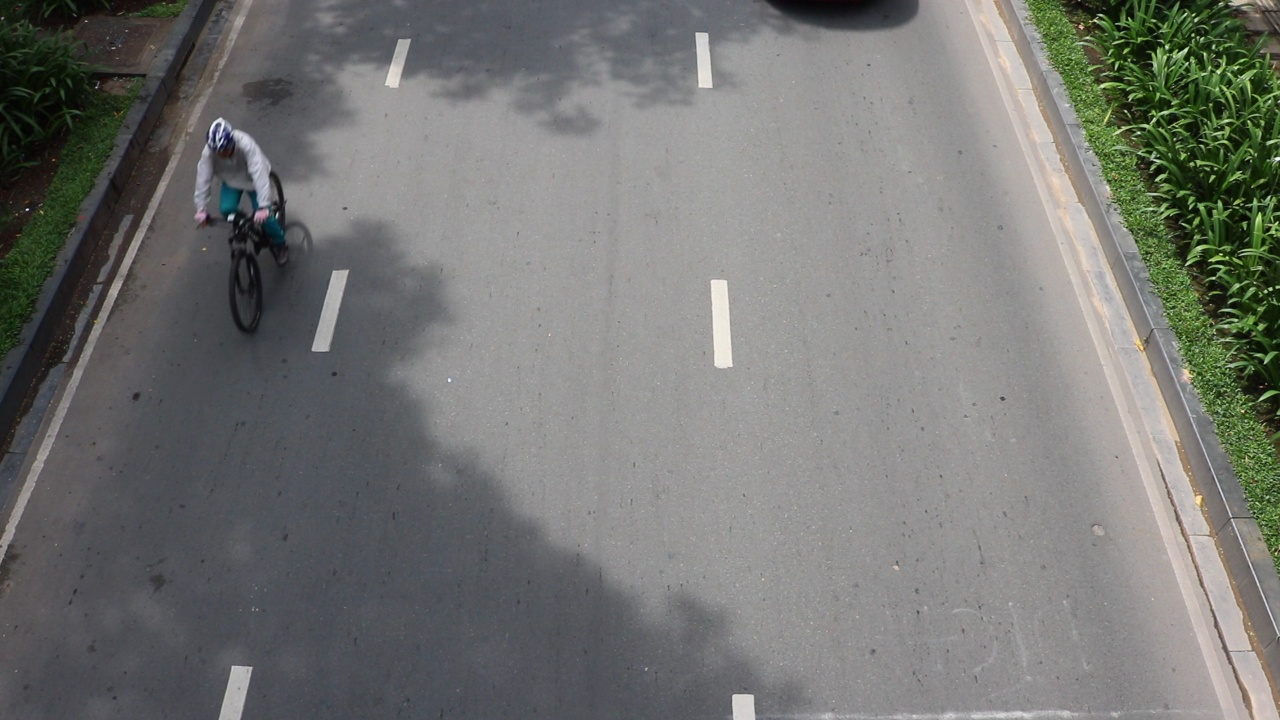bicycle: (214, 182, 298, 333)
